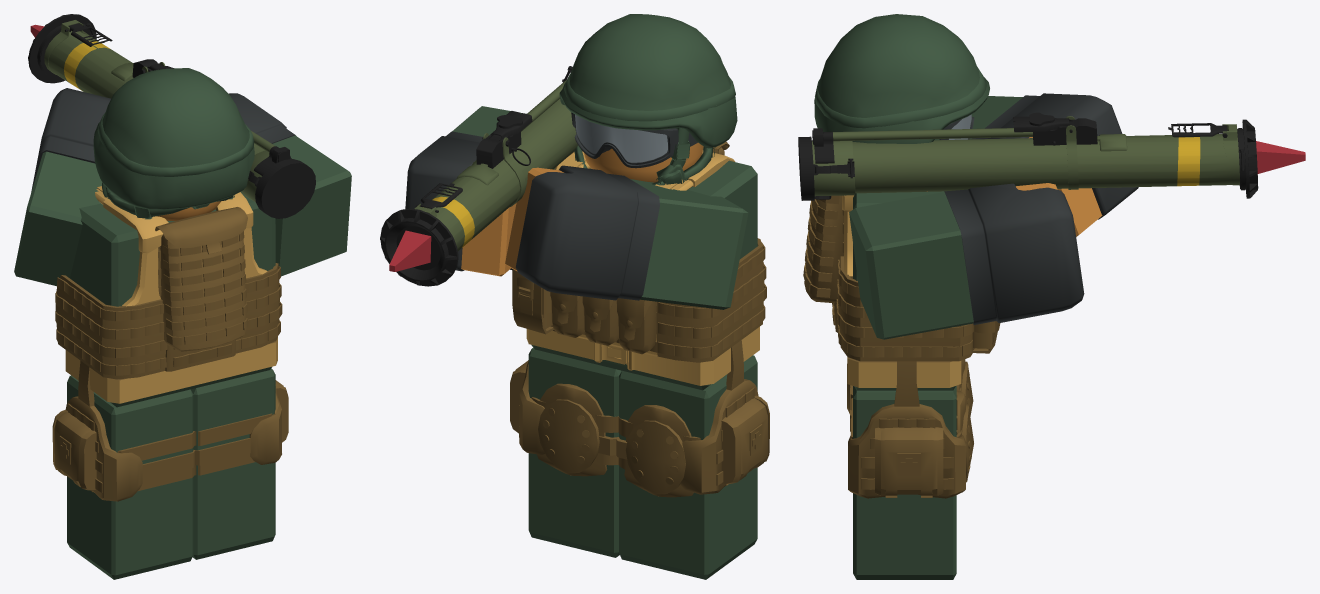
The picture shows the model from 3 angles, left to right: view 1: azimuth 30°, elevation 25°; view 2: azimuth 150°, elevation 25°; view 3: azimuth 270°, elevation 25°; orthographic projection. The views are drawn at different scales.
Parts seen in each view (by area): view 1: Rocketeer, Rocketeer.004, Rocketeer.001, Rocketeer.005, Rocketeer.002; view 2: Rocketeer.004, Rocketeer, Rocketeer.001, Rocketeer.005, Rocketeer.002, Rocketeer.003; view 3: Rocketeer, Rocketeer.002, Rocketeer.005, Rocketeer.004, Rocketeer.001, Rocketeer.003.
Boxes of the visible parts, left/top/right/bottom form: Rocketeer: left=55, top=68, right=282, bottom=407; Rocketeer.004: left=52, top=361, right=288, bottom=579; Rocketeer.001: left=14, top=88, right=110, bottom=286; Rocketeer.005: left=28, top=14, right=315, bottom=218; Rocketeer.002: left=229, top=93, right=351, bottom=276; Rocketeer.004: left=510, top=340, right=769, bottom=579; Rocketeer: left=512, top=14, right=766, bottom=390; Rocketeer.001: left=505, top=165, right=748, bottom=309; Rocketeer.005: left=380, top=66, right=577, bottom=286; Rocketeer.002: left=405, top=106, right=526, bottom=276; Rocketeer.003: left=389, top=230, right=431, bottom=271; Rocketeer: left=803, top=14, right=1000, bottom=390; Rocketeer.002: left=849, top=183, right=1084, bottom=339; Rocketeer.005: left=798, top=112, right=1258, bottom=200; Rocketeer.004: left=847, top=359, right=973, bottom=579; Rocketeer.001: left=970, top=93, right=1138, bottom=236; Rocketeer.003: left=1256, top=141, right=1305, bottom=173.
Bounding box in the file's own units: 3.45 × 5.47 × 4.9.
